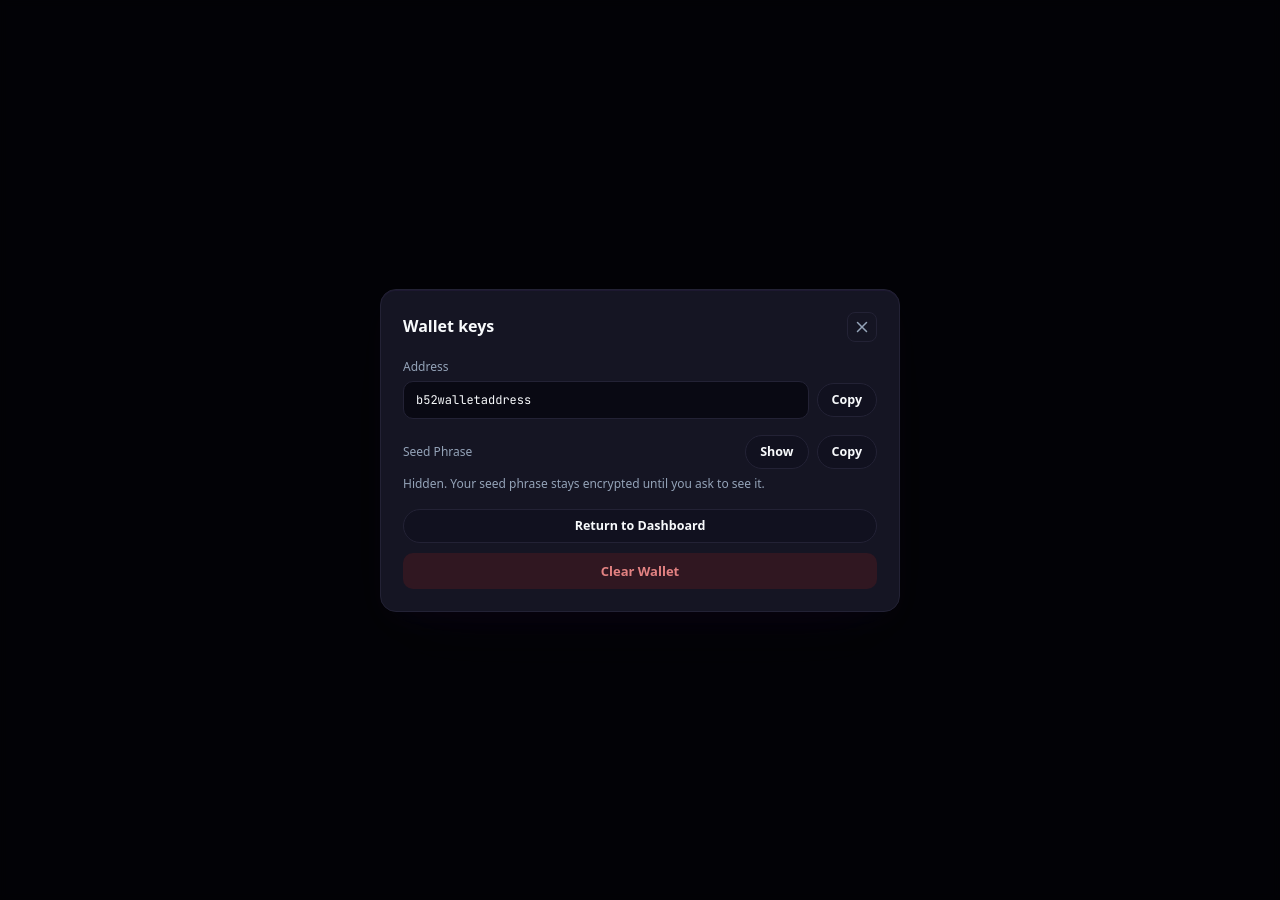
Test case: WalletKeysModal › reveals the seed words when Show is clicked
The width and height of the screenshot is (1280, 900).
Click the button "Show" at {"x": 777, "y": 452}, box 745,434 -> 808,468
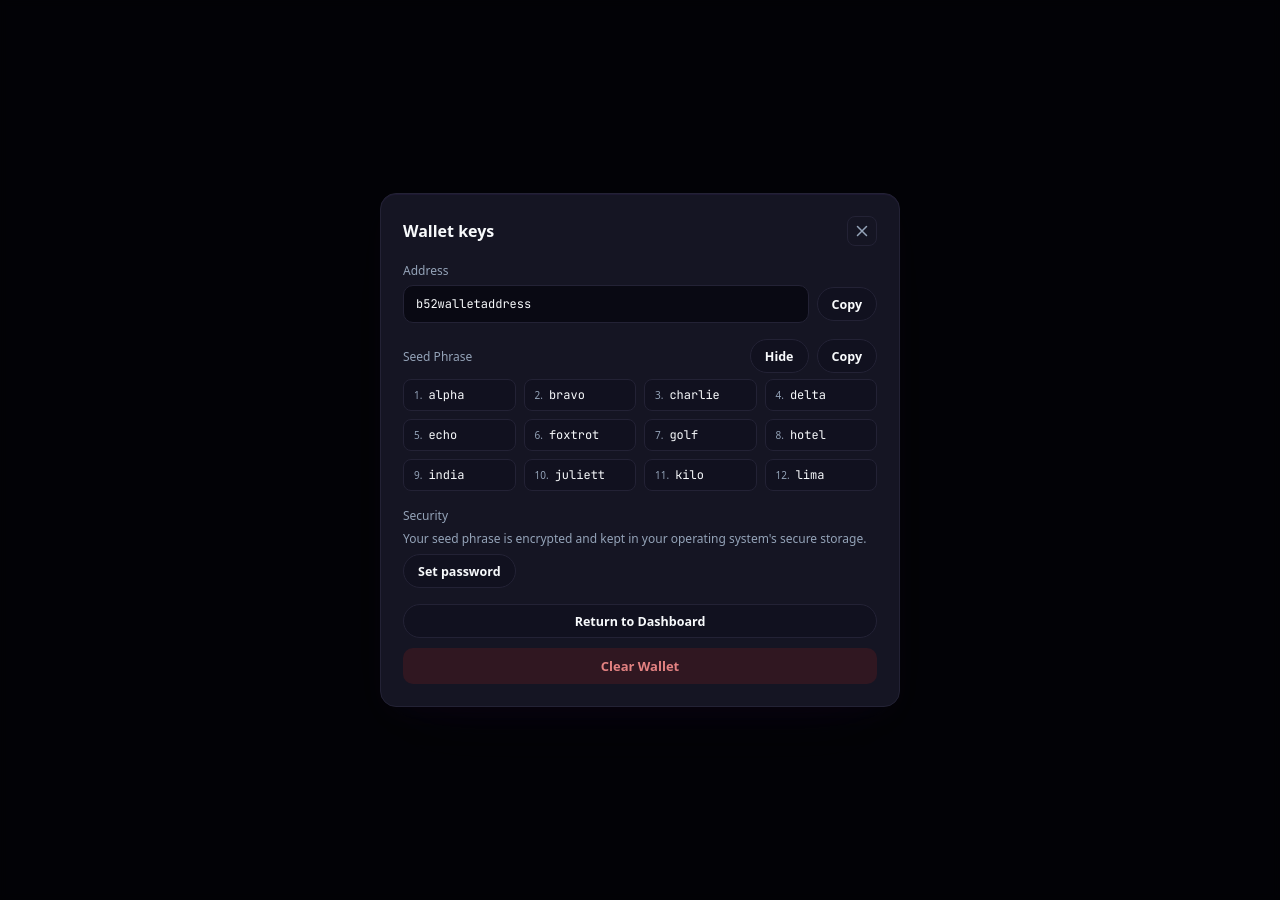
expect the text "alpha" is shown: met, box 428,387 -> 464,403
expect the text "lima" is shown: met, box 796,467 -> 824,483
